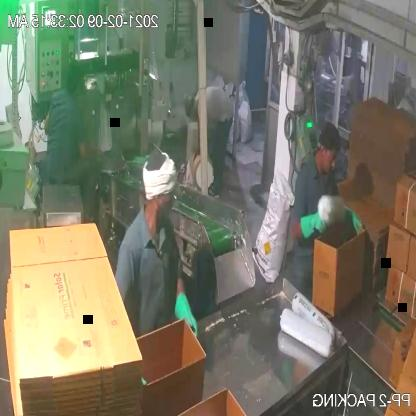glove: (293, 195, 338, 250), (175, 286, 200, 346), (334, 202, 365, 241)
no_glove: (78, 134, 104, 164)
